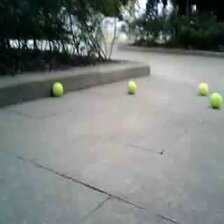tennis: (211, 92, 222, 109), (52, 82, 64, 95), (126, 80, 138, 93), (198, 83, 208, 95)
